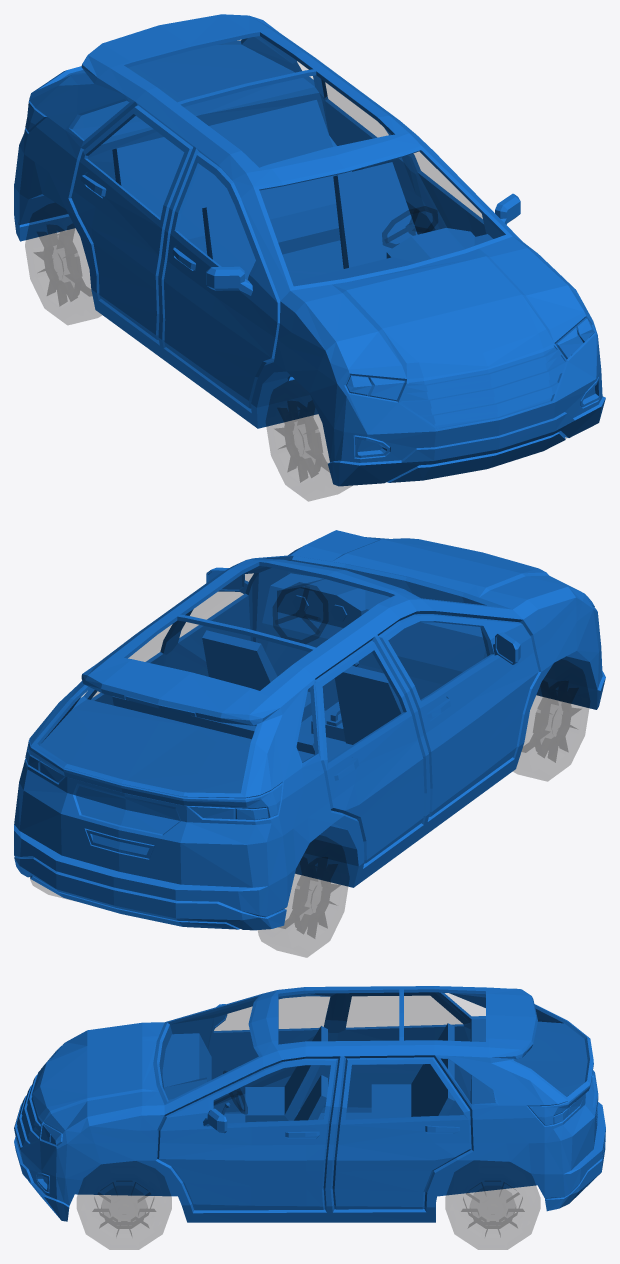
Rendered from POLY_car.fbx.
The picture shows the model from 3 angles, top to bottom: view 1: azimuth 30°, elevation 25°; view 2: azimuth 150°, elevation 25°; view 3: azimuth 270°, elevation 25°; orthographic projection. The views are drawn at different scales.
Visible parts, largest first — view 1: Symmetry_3, Cylinder_6, Cylinder_1, Cylinder_17; view 2: Symmetry_3, Cylinder_6, Cylinder_1, Cylinder_17; view 3: Symmetry_3, Cylinder_6, Cylinder_4.
Part boxes in pixels (box(x1,y1,x2,y2)): Symmetry_3: box(14, 14, 605, 486); Cylinder_6: box(25, 203, 101, 324); Cylinder_1: box(266, 379, 351, 501); Cylinder_17: box(382, 206, 437, 247); Symmetry_3: box(14, 530, 605, 930); Cylinder_6: box(30, 835, 349, 957); Cylinder_1: box(513, 659, 589, 781); Cylinder_17: box(273, 582, 328, 643); Symmetry_3: box(14, 986, 605, 1222); Cylinder_6: box(445, 1160, 540, 1249); Cylinder_4: box(77, 1161, 171, 1249).
Bounding box in the file's own units: 235 × 177 × 506.
